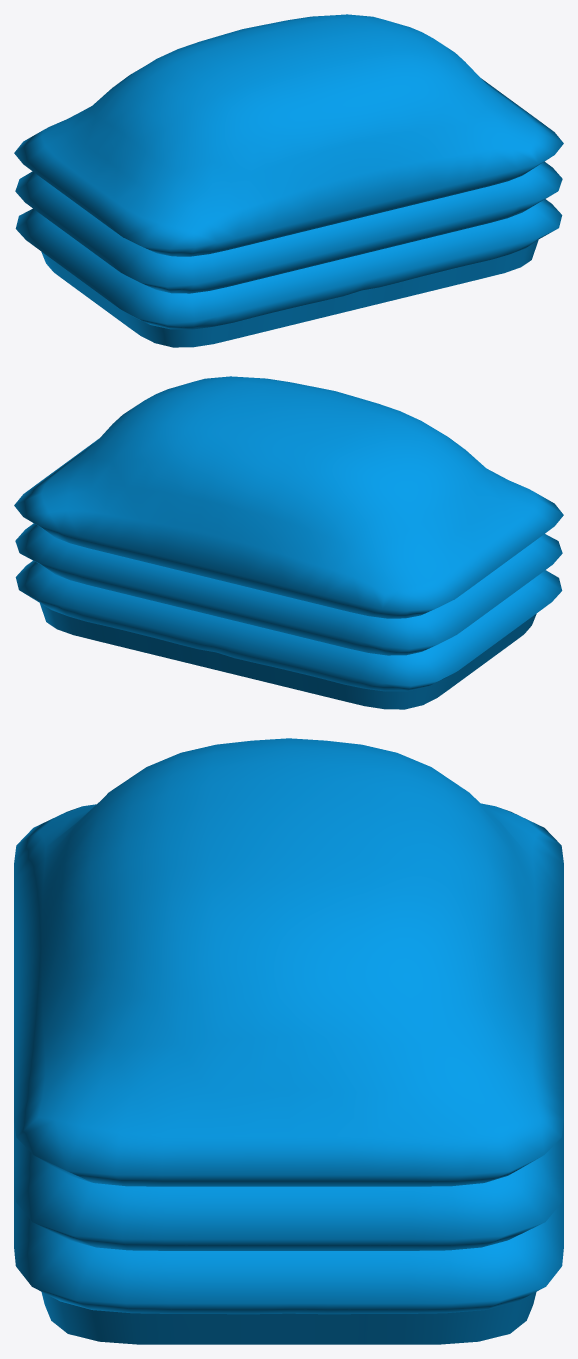
Rendered from hvs_quest_ballooncrate_balloon_pose0.fbx.
The picture shows the model from 3 angles, top to bottom: view 1: azimuth 30°, elevation 25°; view 2: azimuth 150°, elevation 25°; view 3: azimuth 270°, elevation 25°; orthographic projection. The views are drawn at different scales.
Parts seen in each view (by area): view 1: Balloon_pose0; view 2: Balloon_pose0; view 3: Balloon_pose0.
Part boxes in pixels (box(x1,y1,x2,y2)): Balloon_pose0: box(14, 14, 563, 347); Balloon_pose0: box(14, 376, 563, 709); Balloon_pose0: box(14, 738, 563, 1344).
Size of the model in its own units: 7.78 by 3.62 by 4.92.
